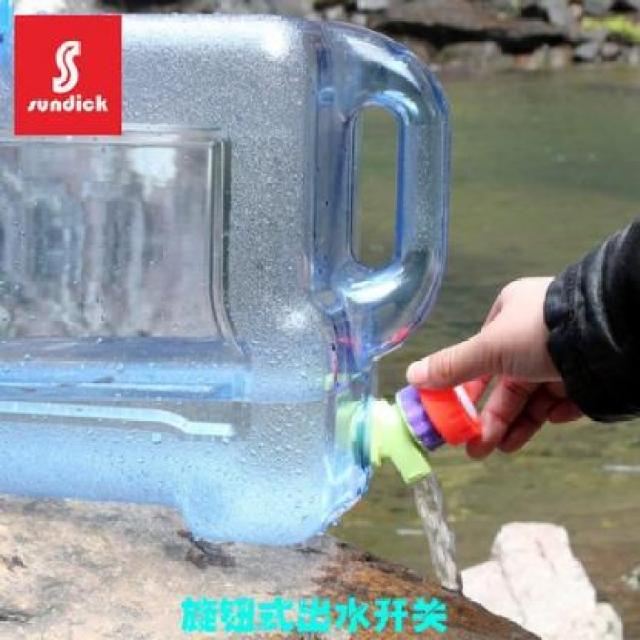coolerbottle: (0, 2, 455, 550)
